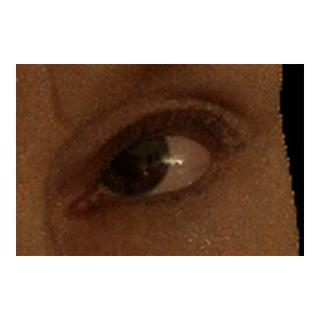pupil: (110, 138, 147, 175)
